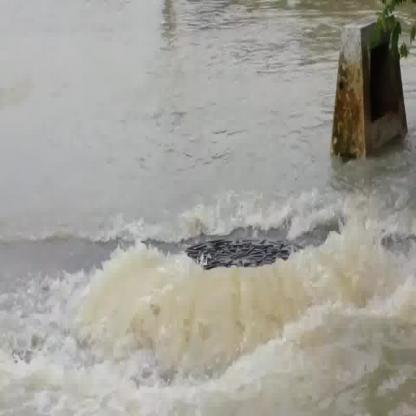drainage overflow-repair-: (46, 169, 408, 382)
